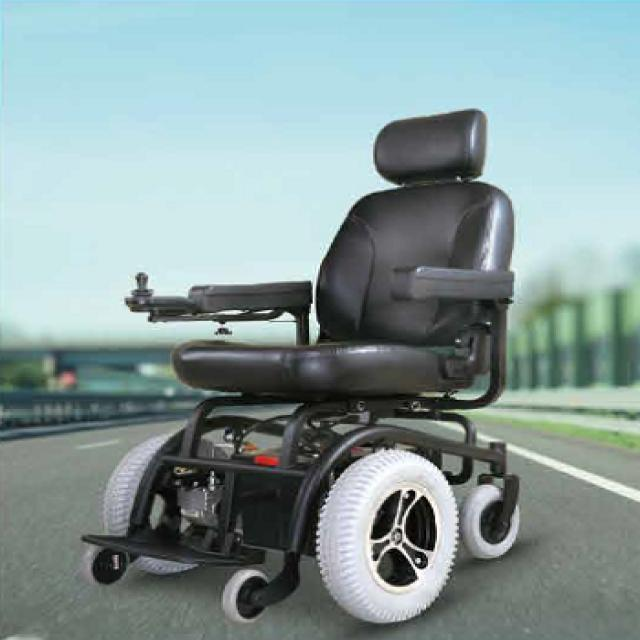wheelchairs: (54, 102, 542, 634)
